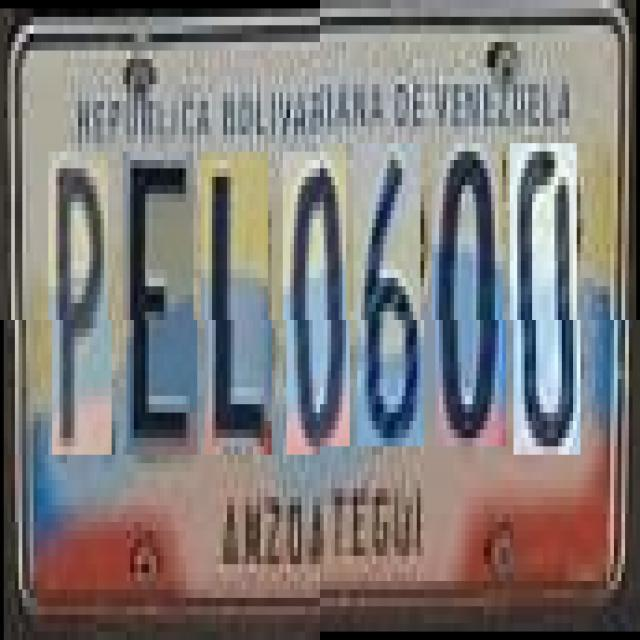0: (514, 152, 580, 464)
6: (357, 152, 424, 454)
E: (127, 152, 197, 454)
L: (204, 152, 272, 454)
O: (436, 152, 506, 454), (286, 152, 350, 454)
P: (52, 152, 111, 454)
